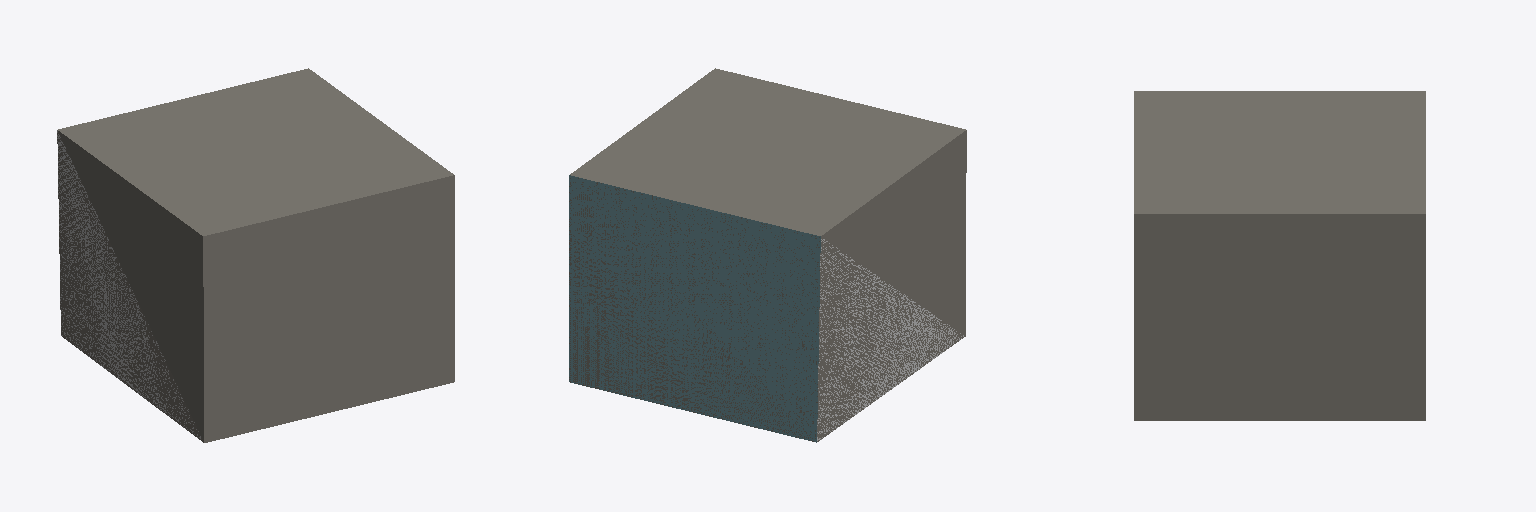
Rendered from CornellBox-Glossy-OG.obj.
3 views of the same model, side by side, from view 1: azimuth 30°, elevation 25°; view 2: azimuth 150°, elevation 25°; view 3: azimuth 270°, elevation 25° (orthographic).
Parts seen in each view (by area): view 1: shortBox, light; view 2: shortBox, sphere, light; view 3: shortBox.
Boxes of the visible parts, box(x1,y1,x2,y2) form: shortBox: box(57, 68, 454, 442); light: box(57, 130, 200, 438); shortBox: box(569, 68, 966, 441); sphere: box(569, 175, 820, 442); light: box(817, 239, 963, 440); shortBox: box(1134, 91, 1425, 420).
Bounding box in the file's own units: 2.02 × 1.59 × 2.03.